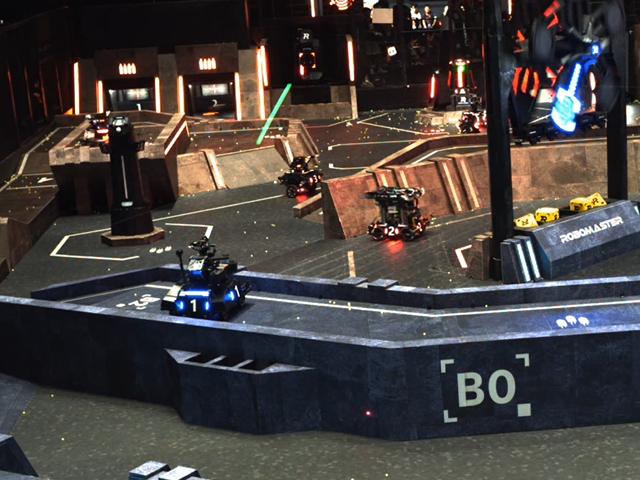rm: (165, 241, 250, 320), (370, 187, 430, 242), (282, 157, 320, 194), (82, 113, 112, 145), (458, 112, 484, 133)
